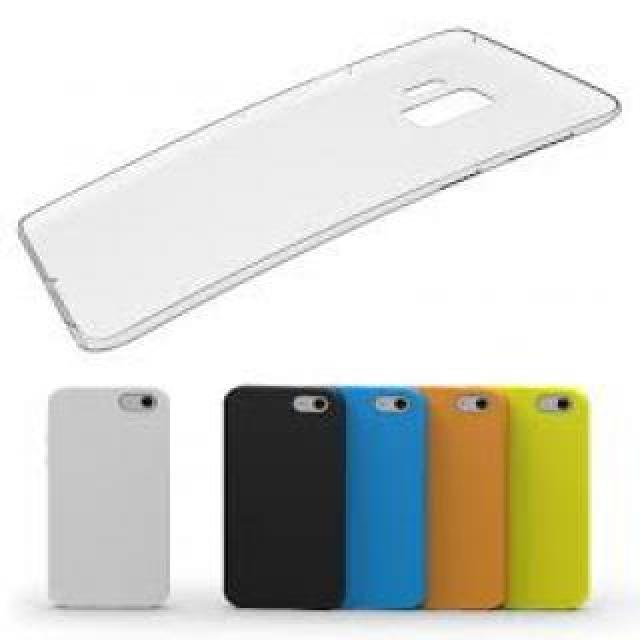smart phone: (60, 358, 190, 637), (218, 368, 344, 620), (330, 357, 435, 615), (434, 384, 514, 634), (513, 380, 595, 623)
